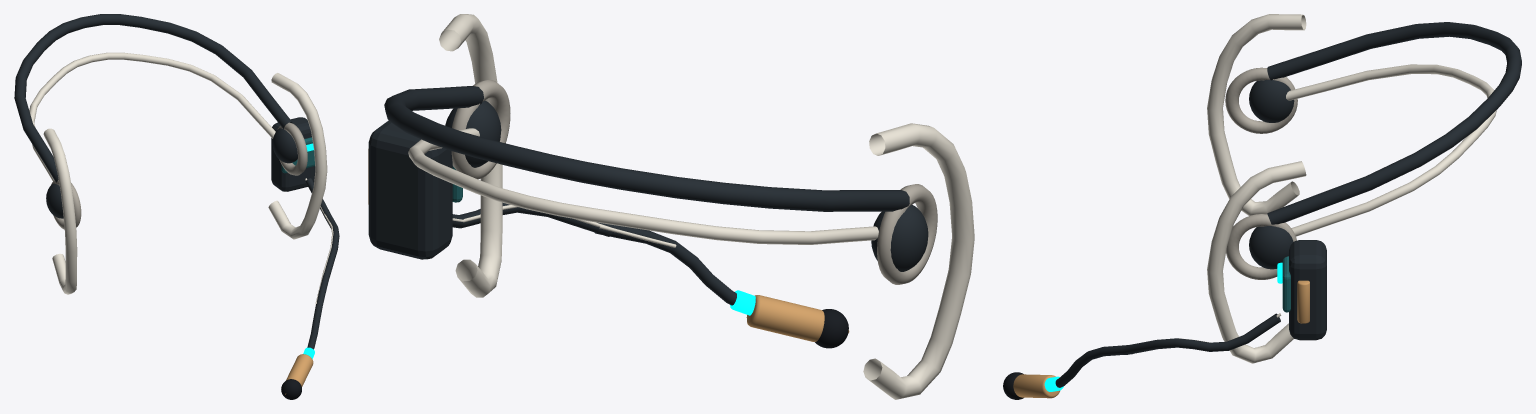
File: rashin-halo-h1-hero.glb
3 renders of one model, left to right at view 1: azimuth 30°, elevation 25°; view 2: azimuth 150°, elevation 25°; view 3: azimuth 270°, elevation 25°, orthographic. The views are drawn at different scales.
Visible parts, largest first — view 1: rear_graphite_band, right_ear_hook, rear_ivory_comfort_band, left_ear_hook, signal_pod_shell, right_ear_contact_ring, right_ear_hinge, flexible_boom_base, flexible_boom_tip, warm_alloy_capsule_body, left_ear_hinge, left_ear_contact_ring (+1 smaller); view 2: rear_graphite_band, signal_pod_shell, left_ear_hook, rear_ivory_comfort_band, right_ear_hook, left_ear_contact_ring, warm_alloy_capsule_body, left_ear_hinge, right_ear_contact_ring, flexible_boom_tip, right_ear_hinge, flexible_boom_base (+1 smaller); view 3: rear_graphite_band, left_ear_hook, right_ear_hook, rear_ivory_comfort_band, signal_pod_shell, left_ear_contact_ring, flexible_boom_base, right_ear_contact_ring, left_ear_hinge, right_ear_hinge, warm_alloy_capsule_body, flexible_boom_tip (+2 smaller).
Boxes of the visible parts, x1=… form: rear_graphite_band: x1=14, y1=14, x2=292, y2=182; right_ear_hook: x1=268, y1=73, x2=327, y2=239; rear_ivory_comfort_band: x1=29, y1=52, x2=275, y2=181; left_ear_hook: x1=43, y1=128, x2=77, y2=294; signal_pod_shell: x1=271, y1=117, x2=315, y2=191; right_ear_contact_ring: x1=277, y1=122, x2=307, y2=175; right_ear_hinge: x1=272, y1=128, x2=297, y2=163; flexible_boom_base: x1=305, y1=178, x2=339, y2=275; flexible_boom_tip: x1=307, y1=270, x2=329, y2=349; warm_alloy_capsule_body: x1=286, y1=354, x2=313, y2=386; left_ear_hinge: x1=46, y1=183, x2=63, y2=218; left_ear_contact_ring: x1=51, y1=180, x2=81, y2=229; rear_graphite_band: x1=384, y1=86, x2=909, y2=211; signal_pod_shell: x1=368, y1=120, x2=452, y2=259; left_ear_hook: x1=863, y1=123, x2=974, y2=399; rear_ivory_comfort_band: x1=408, y1=128, x2=878, y2=244; right_ear_hook: x1=439, y1=14, x2=502, y2=297; left_ear_contact_ring: x1=877, y1=184, x2=937, y2=284; warm_alloy_capsule_body: x1=746, y1=295, x2=824, y2=341; left_ear_hinge: x1=871, y1=205, x2=928, y2=271; right_ear_contact_ring: x1=451, y1=80, x2=510, y2=179; flexible_boom_tip: x1=594, y1=223, x2=736, y2=305; right_ear_hinge: x1=445, y1=100, x2=501, y2=167; flexible_boom_base: x1=452, y1=202, x2=612, y2=236; rear_graphite_band: x1=1267, y1=22, x2=1521, y2=224; left_ear_hook: x1=1207, y1=14, x2=1306, y2=215; right_ear_hook: x1=1207, y1=161, x2=1306, y2=363; rear_ivory_comfort_band: x1=1286, y1=64, x2=1496, y2=236; signal_pod_shell: x1=1289, y1=240, x2=1326, y2=340; left_ear_contact_ring: x1=1225, y1=67, x2=1297, y2=133; flexible_boom_base: x1=1122, y1=313, x2=1280, y2=354; right_ear_contact_ring: x1=1226, y1=214, x2=1296, y2=279; left_ear_hinge: x1=1249, y1=79, x2=1294, y2=122; right_ear_hinge: x1=1249, y1=226, x2=1293, y2=269; warm_alloy_capsule_body: x1=1013, y1=374, x2=1059, y2=398; flexible_boom_tip: x1=1055, y1=345, x2=1132, y2=387.
Bounding box in the file's own units: 0.2077 × 0.1722 × 0.246.
